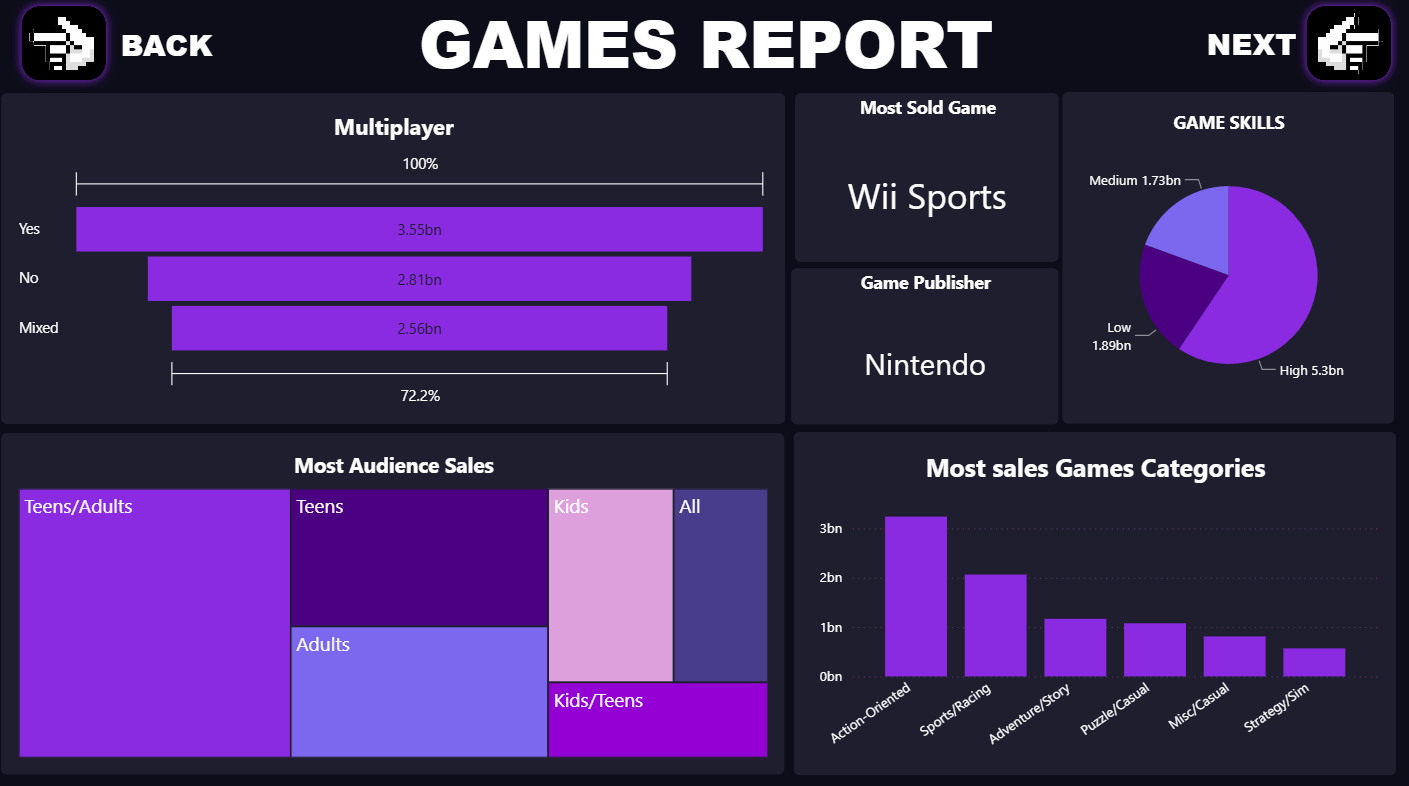

Layout of this report page (visuals, bound fields, positions):
{"tool":"powerbi","page":{"name":"GAMES REPORT","canvas":[1280,720],"ordinal":2},"visuals":[{"type":"textbox","title":"GAMES REPORT ","box":[330.7,0,618.7,74],"z":0},{"type":"columnChart","title":"Most sales Games Categories ","fields":{"Category":["Dim_category.Category"],"Y":["Sum(Fact_Sales.Total_Sales_Mill)"]},"box":[720.2,394.4,546.1,311.2],"z":1000},{"type":"pieChart","title":"GAME SKILLS","fields":{"Category":["Dim_category.Skills"],"Y":["Sum(Fact_Sales.Total_Sales_Mill)"]},"box":[964.6,86.6,300.5,300.5],"z":2000},{"type":"treemap","title":"Most Audience Sales","fields":{"Values":["Sum(Fact_Sales.TotalWorld_Sales_millions)"],"Group":["Dim_category.Target_Audience"]},"box":[1.2,395.4,710.8,309.6],"z":3000},{"type":"funnel","title":"Multiplayer","fields":{"Category":["Dim_category.Multiplayer"],"Y":["Sum(Fact_Sales.Total_Sales_Mill)"]},"box":[1,87,711,300],"z":4000},{"type":"card","title":"Most Sold Game","fields":{"Values":["Fact_Sales.Most_Category_Sold"]},"box":[721.5,86.9,239.5,152.5],"z":5000},{"type":"card","title":"Game Publisher","fields":{"Values":["Fact_Sales.Most_Sold_Publisher"]},"box":[718.4,245.9,242.5,141.5],"z":6000},{"type":"textbox","title":"NEXT","box":[1080.8,22.9,109.8,39.7],"z":7000},{"type":"actionButton","box":[1177.5,0,93,83.9],"z":8000},{"type":"actionButton","box":[11.6,0,93,83.9],"z":9000},{"type":"textbox","title":"BACK","box":[105.9,23.5,91.5,39.7],"z":10000}]}

Visuals, with their boxes in screenshot pixels (x1, y1, x2, y2), scaled from the page's 1280x720 canvas onto the 1409x786 screenshot:
"GAMES REPORT " textbox: select_region(364, 0, 1045, 81)
"Most sales Games Categories " columnChart: select_region(793, 431, 1394, 770)
"GAME SKILLS" pieChart: select_region(1062, 95, 1393, 423)
"Most Audience Sales" treemap: select_region(1, 432, 784, 770)
"Multiplayer" funnel: select_region(1, 95, 784, 422)
"Most Sold Game" card: select_region(794, 95, 1058, 261)
"Game Publisher" card: select_region(791, 268, 1058, 423)
"NEXT" textbox: select_region(1190, 25, 1311, 68)
actionButton: select_region(1296, 0, 1399, 92)
actionButton: select_region(13, 0, 115, 92)
"BACK" textbox: select_region(117, 26, 217, 69)
